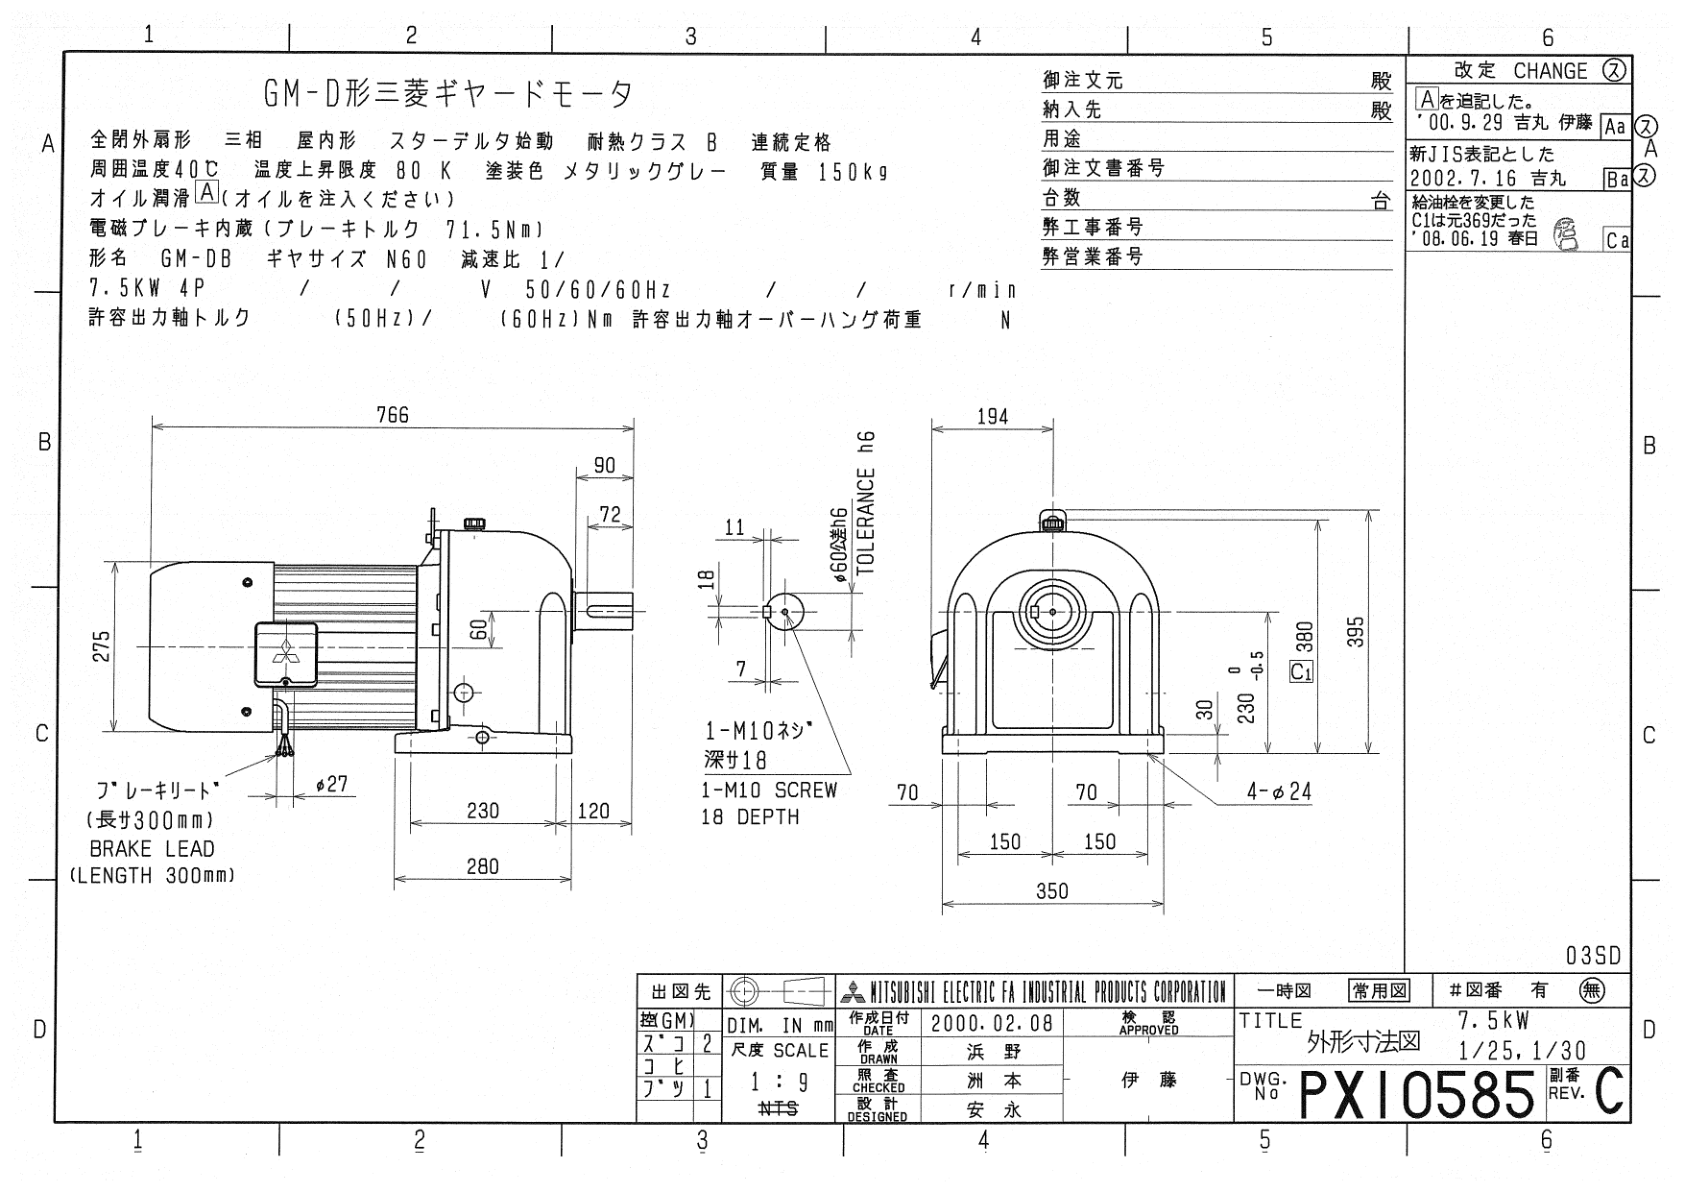GM_D_屋内＿三相_脚: (61, 399, 1388, 919)
